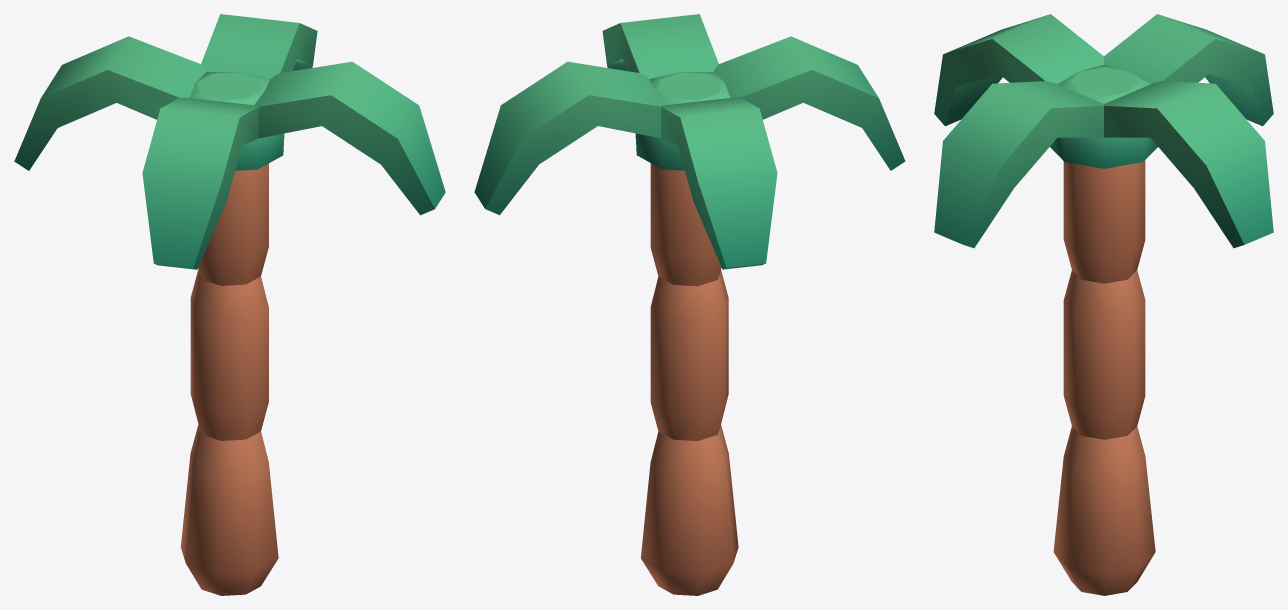
Rendered from palm_straight.glb.
3 renders of one model, left to right at view 1: azimuth 30°, elevation 25°; view 2: azimuth 150°, elevation 25°; view 3: azimuth 270°, elevation 25°, orthographic.
Parts seen in each view (by area): view 1: palm-straight; view 2: palm-straight; view 3: palm-straight.
Part boxes in pixels (x1=…): palm-straight: x1=14, y1=14, x2=445, y2=595; palm-straight: x1=474, y1=14, x2=905, y2=595; palm-straight: x1=934, y1=14, x2=1273, y2=595.
Bounding box in the file's own units: 2.49 × 4.21 × 2.49.
Materials: 1 (1 with a texture image).
